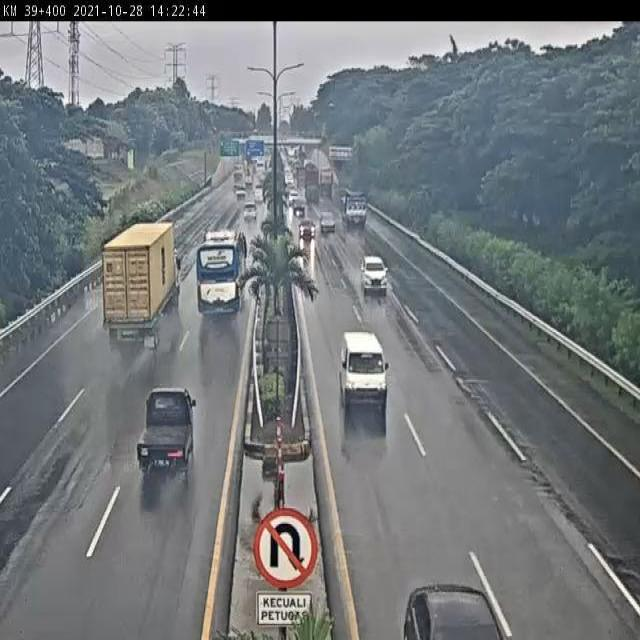ARABA: (135, 384, 196, 473)
OTOBUS: (193, 228, 250, 321)
TIR: (102, 224, 182, 347)
